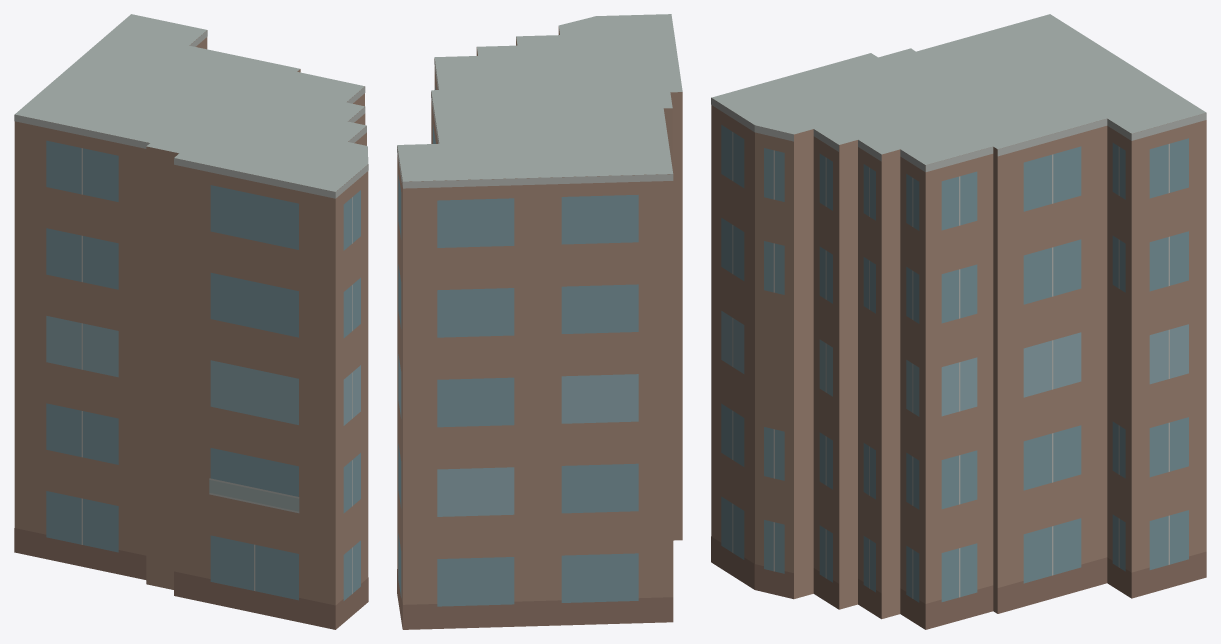
The model's file is survey-upis-32712608.glb.
3 views of the same model, side by side, from view 1: azimuth 30°, elevation 25°; view 2: azimuth 150°, elevation 25°; view 3: azimuth 270°, elevation 25° (orthographic). The views are drawn at different scales.
Visible parts, largest first — view 1: survey-upis-32712608.tmp; view 2: survey-upis-32712608.tmp; view 3: survey-upis-32712608.tmp.
Boxes of the visible parts, x1,y1,x2,y2 form: survey-upis-32712608.tmp: (14,14,368,629); survey-upis-32712608.tmp: (397,14,682,629); survey-upis-32712608.tmp: (711,14,1206,629).
Size of the model in its own units: 11.03 by 15.8 by 15.27.
